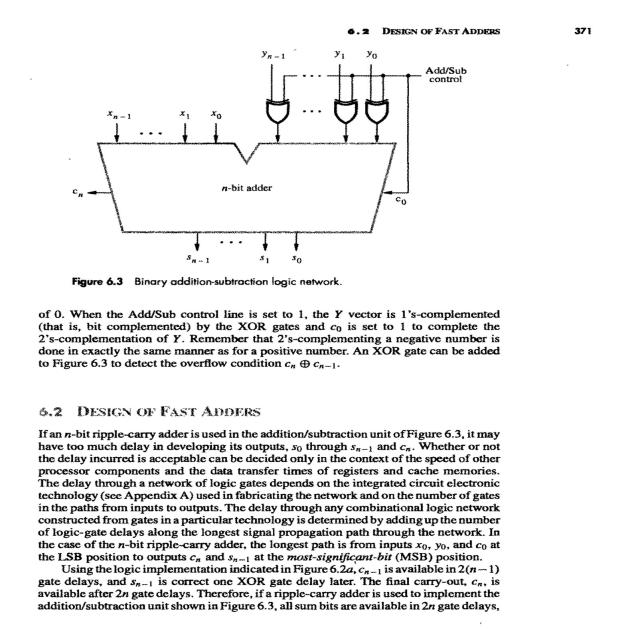diagram: (33, 21, 505, 296)
